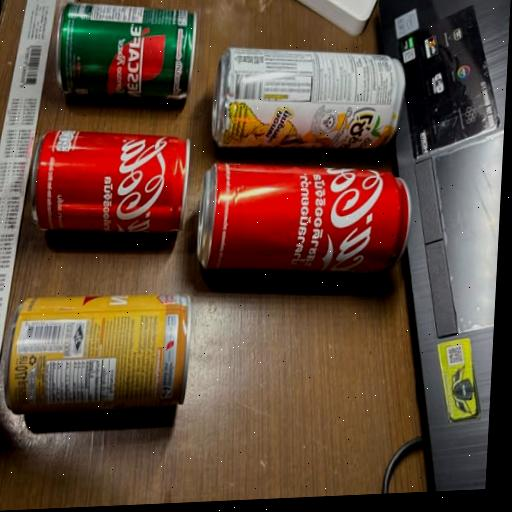bottle: (185, 138, 431, 302), (0, 272, 204, 444), (199, 12, 428, 155), (10, 102, 202, 263), (39, 0, 214, 125)
